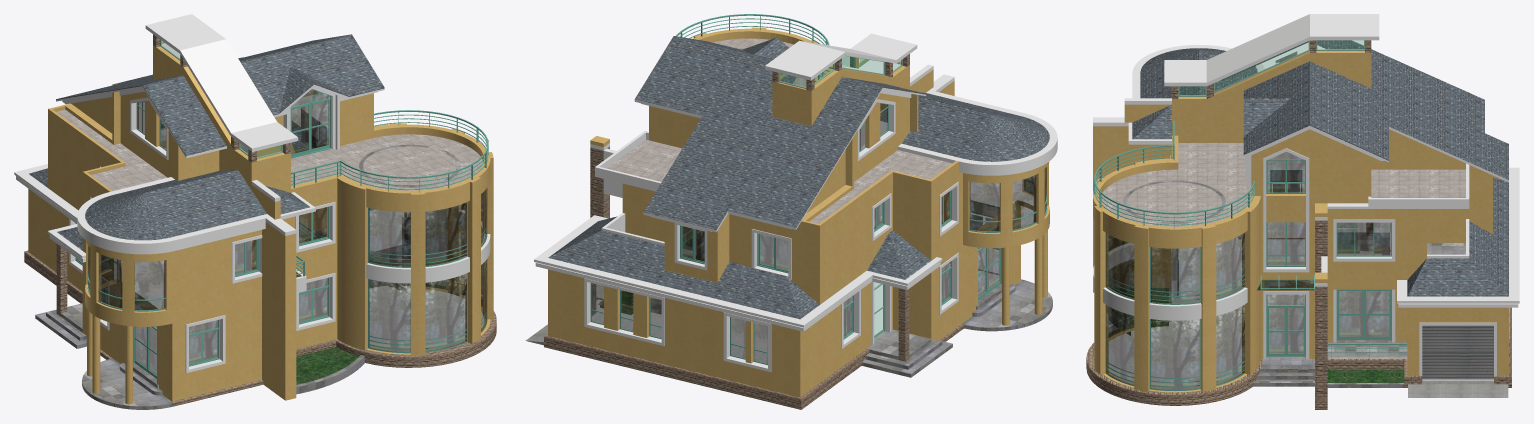
3 views of the same model, side by side, from view 1: azimuth 30°, elevation 25°; view 2: azimuth 150°, elevation 25°; view 3: azimuth 270°, elevation 25° (orthographic).
Parts seen in each view (by area): view 1: Mesh99 Model, Mesh37 yuanwin01_5 Model, Mesh33 yuanwin01_1 Model, Mesh42 yuanwin01_1_5 Model, Mesh28 Group10 Model, Mesh41 yuanwin01_1_4 Model, Mesh4 Group5 Group1 Model, Mesh36 yuanwin01_4 Model, Mesh77 Win1500_1 Model, Mesh84 Win1500_2 Model, Mesh3 Group4 Group1 Model, Mesh91 Door1500_1_1 Model (+7 smaller); view 2: Mesh99 Model, Mesh1 Group2 Group1 Model, Mesh2 Group3 Group1 Model, Mesh91 Door1500_1_1 Model, Mesh80 Win1500_1_2 Model, Mesh81 Win1500_2_1 Model, Mesh31 yzhu01_2 Model, Mesh67 Window01_1_1 Model, Mesh30 yzhu01_1 Model, Mesh68 Window01_1_2 Model, Mesh64 Window01_1 Model, Mesh65 Window01_2 Model (+2 smaller); view 3: Mesh99 Model, Mesh79 Doorcar1 Model, Mesh35 yuanwin01_3 Model, Mesh38 yuanwin01_1_1 Model, Mesh98 Door1500_1_2 Model, Mesh90 Door1500_1 Model, Mesh34 yuanwin01_2 Model, Mesh36 yuanwin01_4 Model, Mesh25 Group8 Model, Mesh29 Group11 Model, Mesh40 yuanwin01_1_3 Model, Mesh39 yuanwin01_1_2 Model (+8 smaller).
Boxes of the visible parts, x1,y1,x2,y2 form: Mesh99 Model: (14, 14, 496, 409); Mesh37 yuanwin01_5 Model: (368, 279, 410, 353); Mesh33 yuanwin01_1 Model: (425, 273, 467, 352); Mesh42 yuanwin01_1_5 Model: (368, 208, 410, 267); Mesh28 Group10 Model: (290, 89, 331, 158); Mesh41 yuanwin01_1_4 Model: (425, 202, 467, 266); Mesh4 Group5 Group1 Model: (134, 260, 165, 310); Mesh36 yuanwin01_4 Model: (402, 217, 447, 289); Mesh77 Win1500_1 Model: (189, 319, 219, 366); Mesh84 Win1500_2 Model: (299, 277, 329, 324); Mesh3 Group4 Group1 Model: (98, 253, 122, 308); Mesh91 Door1500_1_1 Model: (133, 304, 156, 378); Mesh99 Model: (525, 27, 1057, 409); Mesh1 Group2 Group1 Model: (969, 181, 1000, 231); Mesh2 Group3 Group1 Model: (1012, 175, 1036, 229); Mesh91 Door1500_1_1 Model: (978, 225, 1001, 300); Mesh80 Win1500_1_2 Model: (757, 233, 788, 273); Mesh81 Win1500_2_1 Model: (680, 225, 704, 264); Mesh31 yzhu01_2 Model: (1034, 236, 1042, 314); Mesh67 Window01_1_1 Model: (730, 317, 745, 359); Mesh30 yzhu01_1 Model: (1002, 247, 1009, 325); Mesh68 Window01_1_2 Model: (753, 322, 767, 365); Mesh64 Window01_1 Model: (590, 283, 603, 324); Mesh65 Window01_2 Model: (620, 290, 633, 332); Mesh99 Model: (1086, 14, 1519, 409); Mesh79 Doorcar1 Model: (1422, 325, 1493, 379); Mesh35 yuanwin01_3 Model: (1150, 319, 1200, 391); Mesh38 yuanwin01_1_1 Model: (1150, 247, 1200, 304); Mesh98 Door1500_1_2 Model: (1336, 289, 1391, 340); Mesh90 Door1500_1 Model: (1266, 294, 1305, 357); Mesh34 yuanwin01_2 Model: (1105, 305, 1134, 385); Mesh36 yuanwin01_4 Model: (1216, 305, 1244, 385); Mesh25 Group8 Model: (1336, 222, 1391, 256); Mesh29 Group11 Model: (1266, 222, 1305, 266); Mesh40 yuanwin01_1_3 Model: (1105, 233, 1134, 299); Mesh39 yuanwin01_1_2 Model: (1216, 233, 1244, 299).
Bounding box in the file's own units: 17460 × 11450 × 16380.
Materials: 13 (9 with a texture image).
